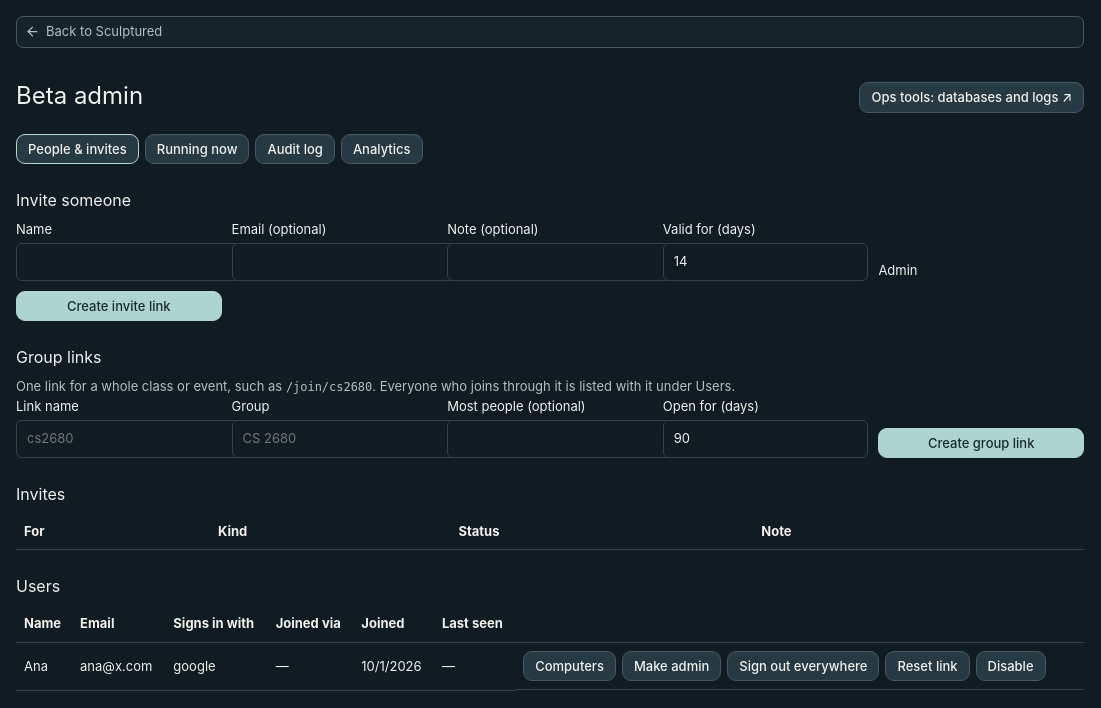
Test: shows the audit log in plain words, newest first
The width and height of the screenshot is (1101, 708).
Step 1. Click the tab "Audit log" → (295, 149), box [256,134,335,164]
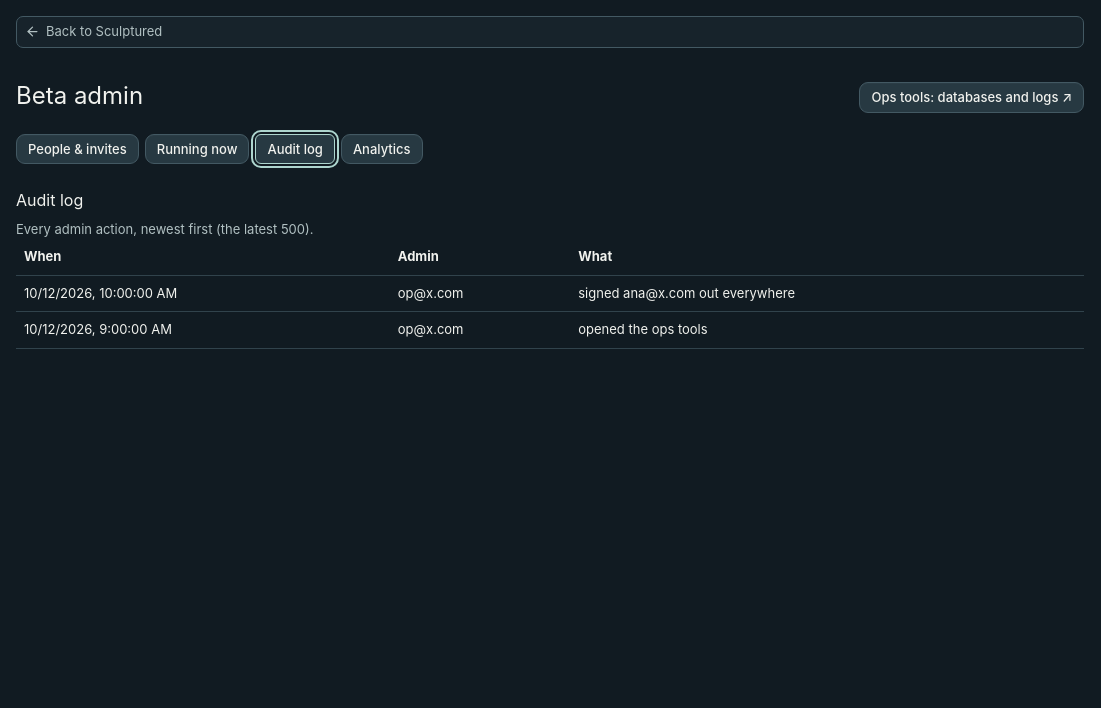
Check: the row that starts with "10/12/2026, 10:00:00 AM" shows "op@x.com", box [398,285,464,301]
Check: the row that starts with "10/12/2026, 10:00:00 AM" shows "signed ana@x.com out everywhere", box [578,285,795,301]
Check: the row "10/12/2026, 9:00:00 AM op@x.com opened the ops tools" is shown, box [16,312,1084,348]
